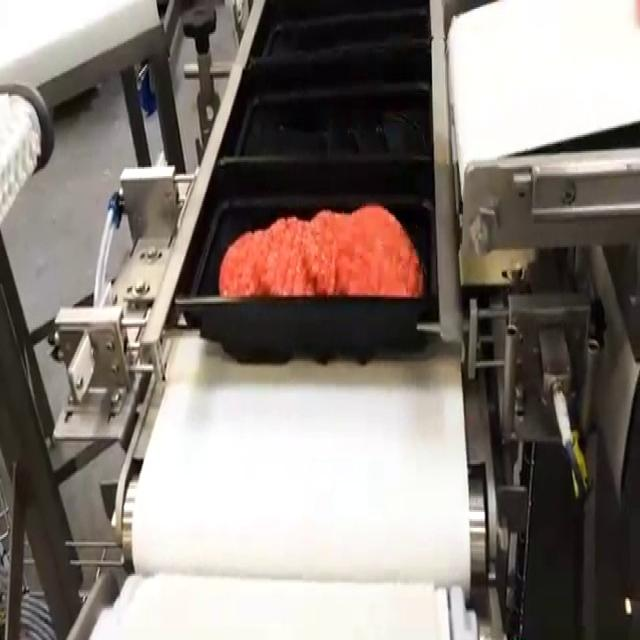4-hamburguer: (219, 204, 423, 297)
